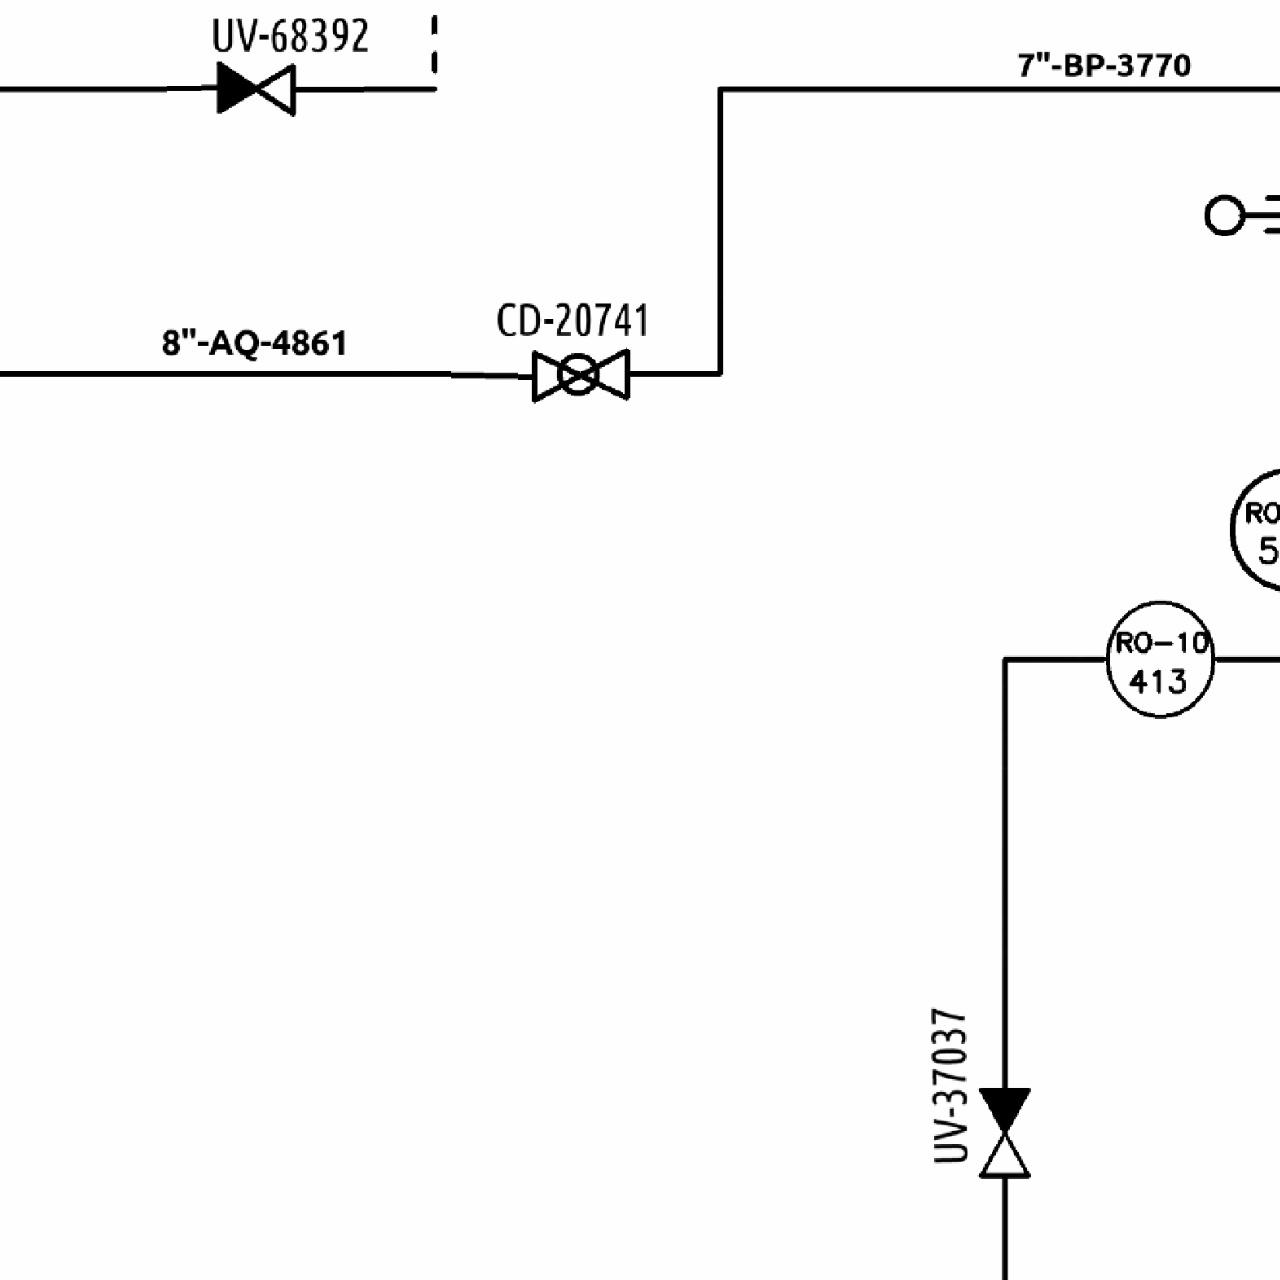Control-Panel: (1096, 595, 1223, 722)
Half closed valve: (974, 1082, 1034, 1182), (211, 56, 298, 120)
